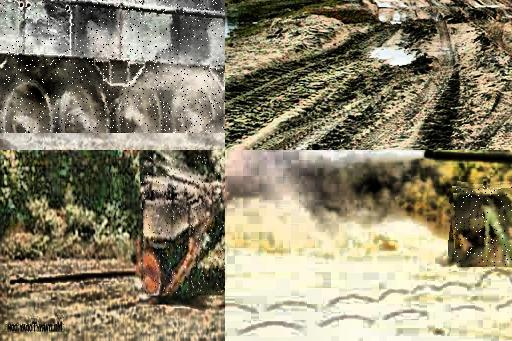tanks: (1, 1, 226, 134), (142, 157, 226, 297), (455, 187, 512, 264), (426, 151, 512, 163)
